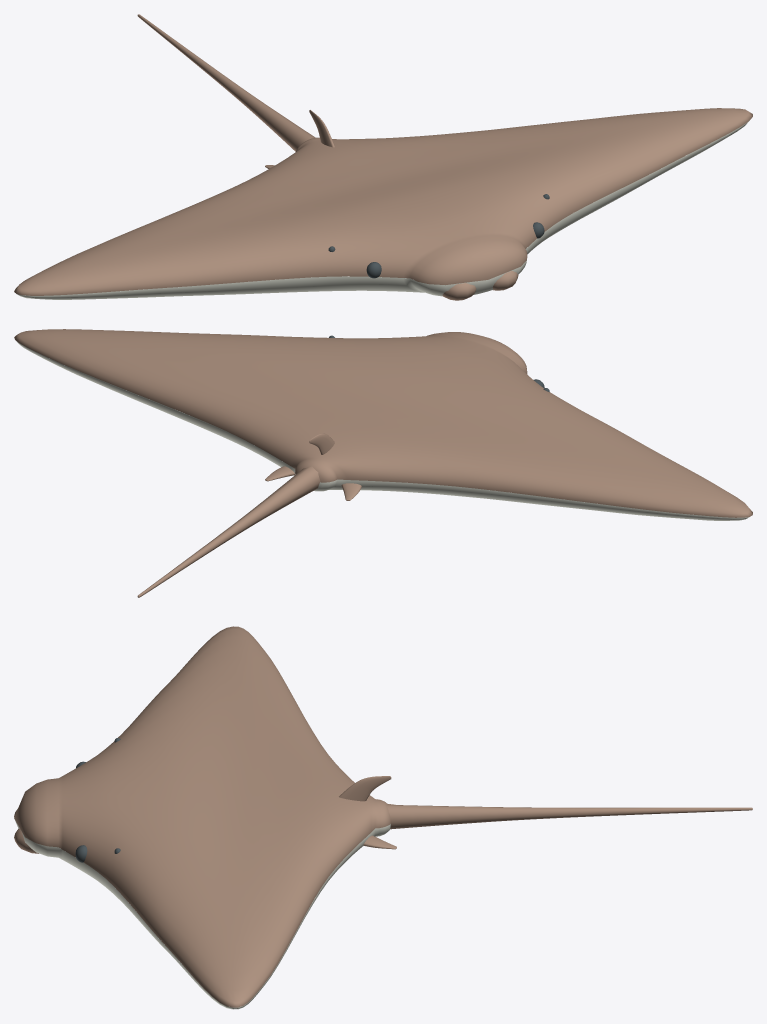
Rendered from ski_lift_station.glb.
3 views of the same model, one above another, from view 1: azimuth 30°, elevation 25°; view 2: azimuth 150°, elevation 25°; view 3: azimuth 270°, elevation 25° (orthographic). The views are drawn at different scales.
Parts seen in each view (by area): view 1: cownose-ray; view 2: cownose-ray; view 3: cownose-ray.
Part boxes in pixels (x1,y1,x2,y2): cownose-ray: (14,14,752,300); cownose-ray: (14,329,752,597); cownose-ray: (14,626,752,1009).
Size of the model in its own units: 2.43 by 0.2308 by 2.
